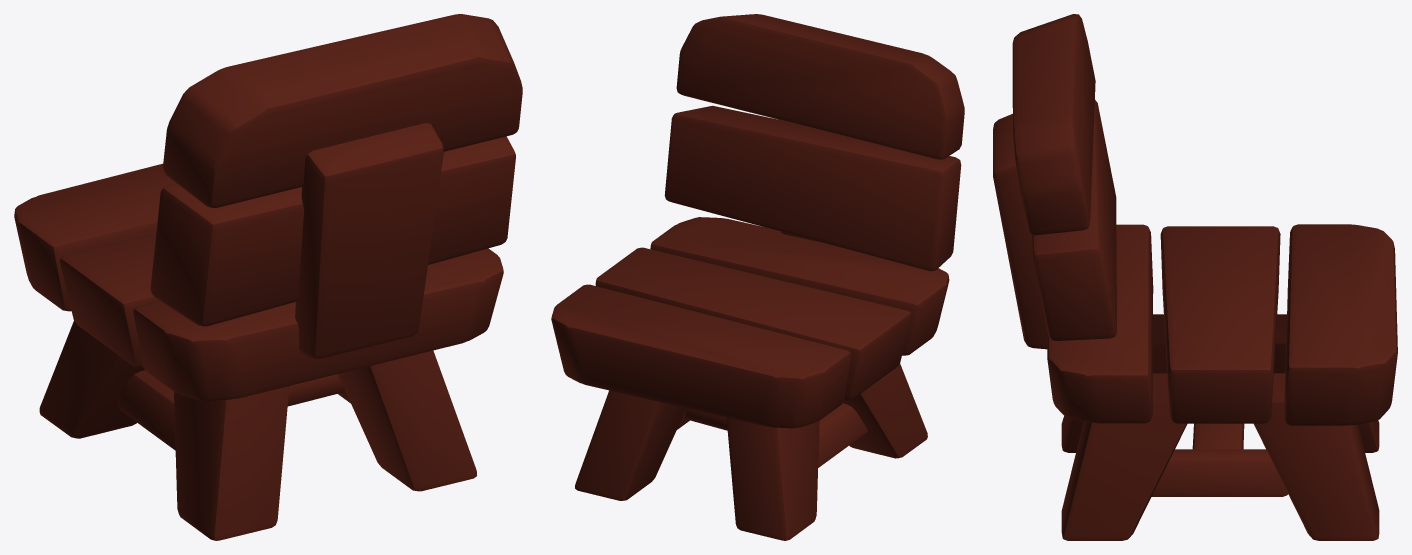
File: chair.obj
The picture shows the model from 3 angles, left to right: view 1: azimuth 30°, elevation 25°; view 2: azimuth 150°, elevation 25°; view 3: azimuth 270°, elevation 25°; orthographic projection. The views are drawn at different scales.
Visible parts, largest first — view 1: chair_Cube.2858; view 2: chair_Cube.2858; view 3: chair_Cube.2858.
Part boxes in pixels (bbox=[...]): chair_Cube.2858: bbox=[14, 14, 522, 540]; chair_Cube.2858: bbox=[551, 14, 964, 540]; chair_Cube.2858: bbox=[993, 14, 1397, 540].
Bounding box in the file's own units: 0.7466 × 0.9909 × 0.8697.
